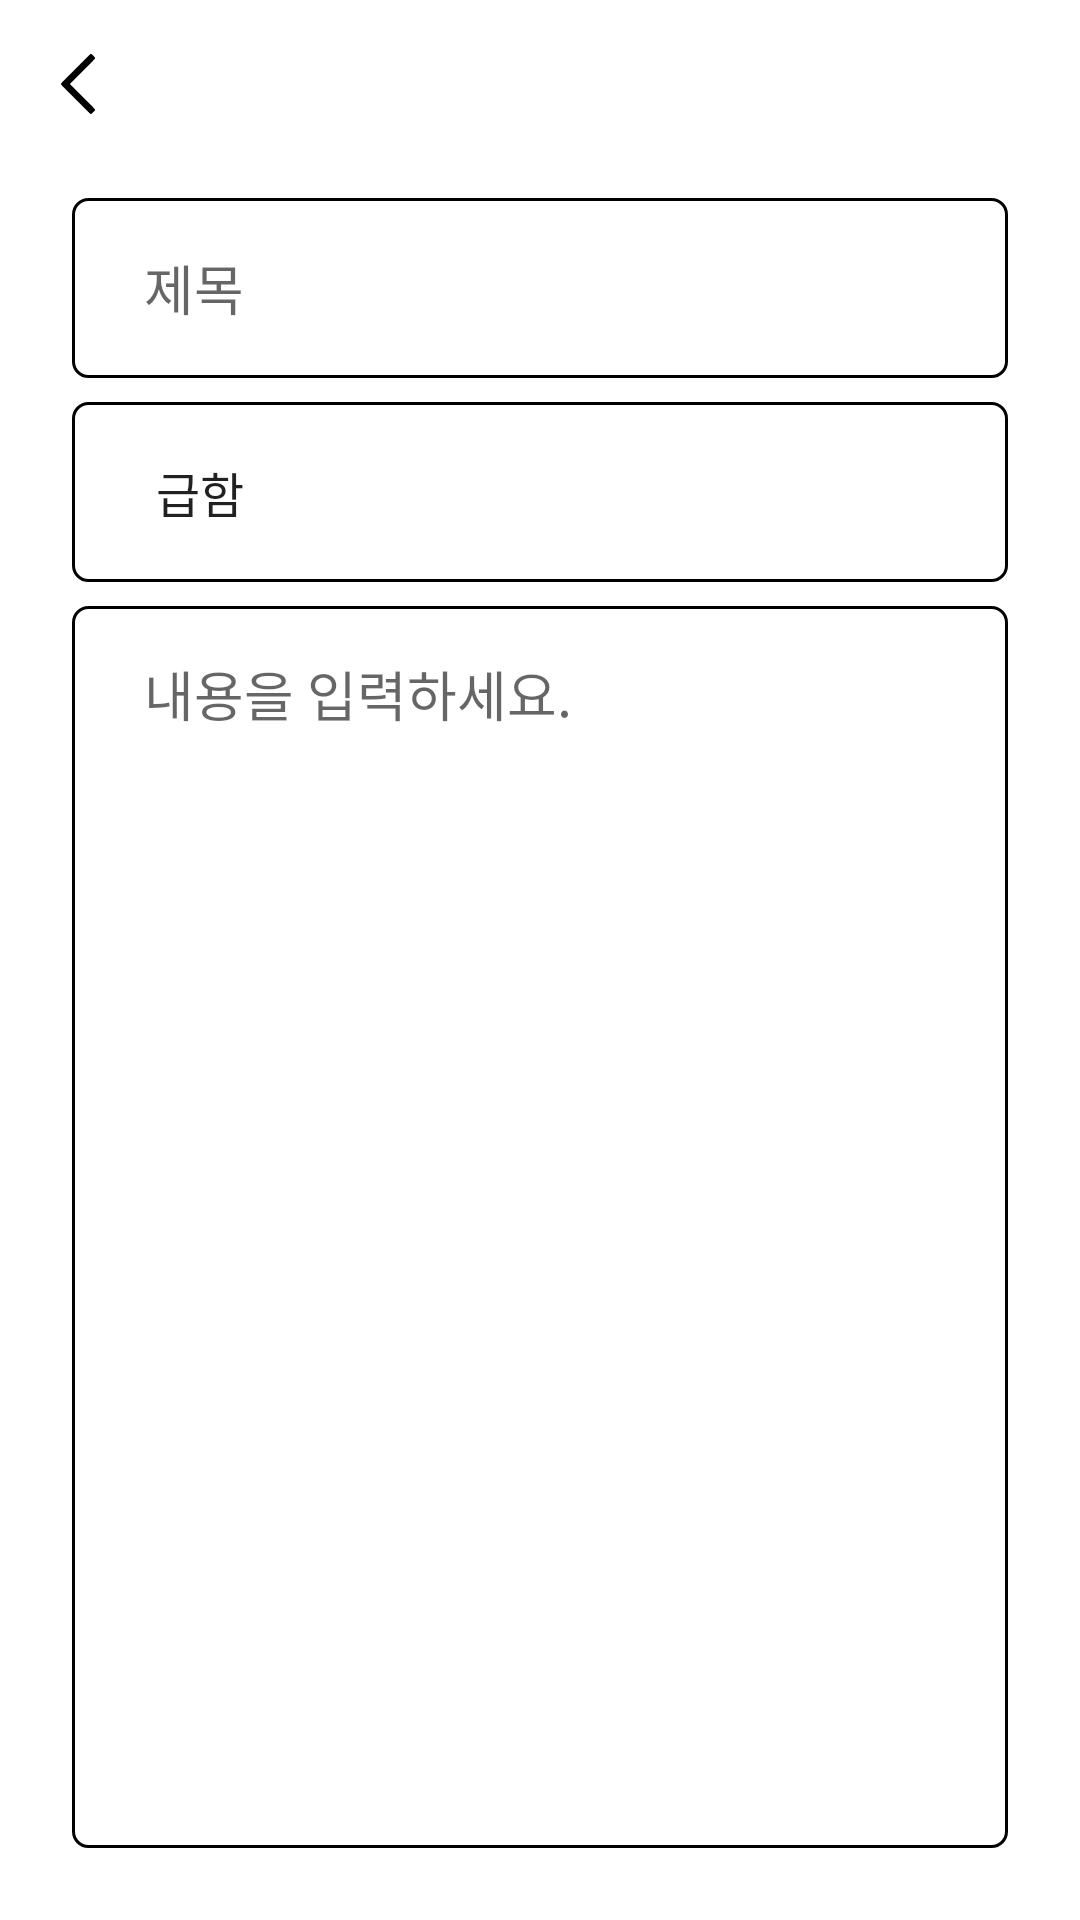

Where to tap for icons on this 1080×1920 app screen, as [x,y]:
backward arrow: [78,84]
